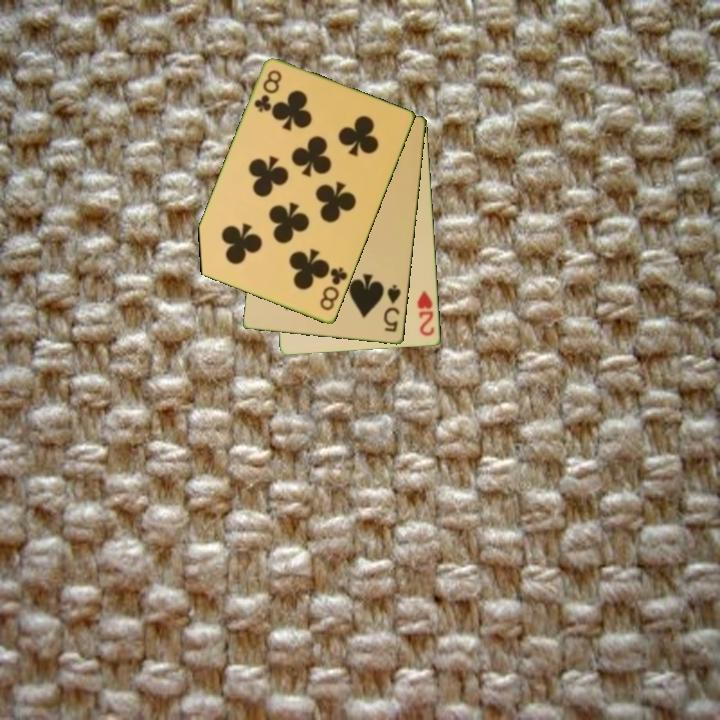2h: (414, 288, 438, 339)
5s: (380, 281, 404, 335)
8c: (316, 264, 351, 314), (251, 67, 285, 115)
